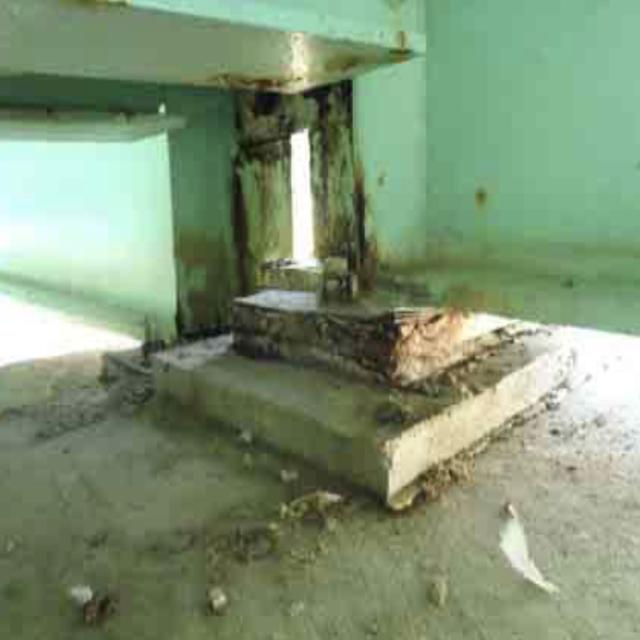corrosion: (215, 46, 484, 383)
